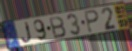2: (100, 7, 118, 32)
3: (67, 13, 81, 37)
9: (33, 19, 48, 42)
B: (48, 15, 67, 39)
J: (20, 21, 33, 44)
P: (84, 8, 101, 34)
